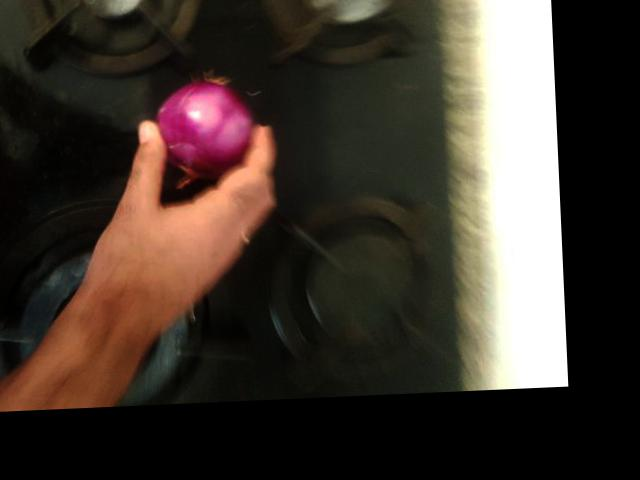onion: (303, 7, 393, 97)
